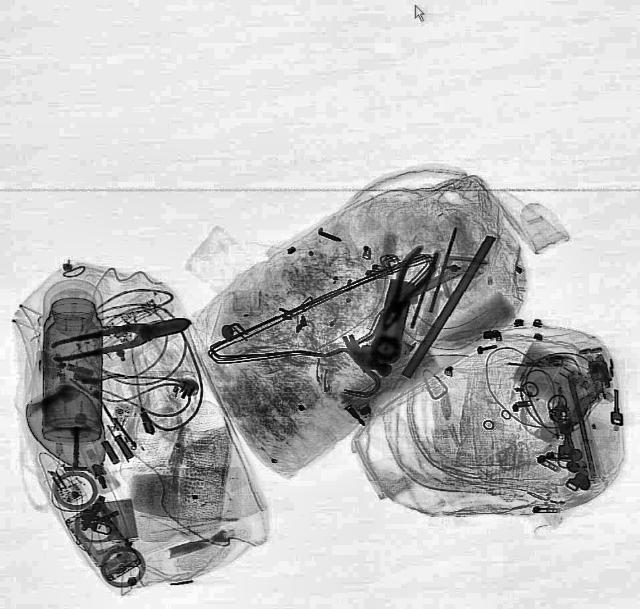Pliers: (46, 312, 192, 366), (366, 243, 442, 337)
